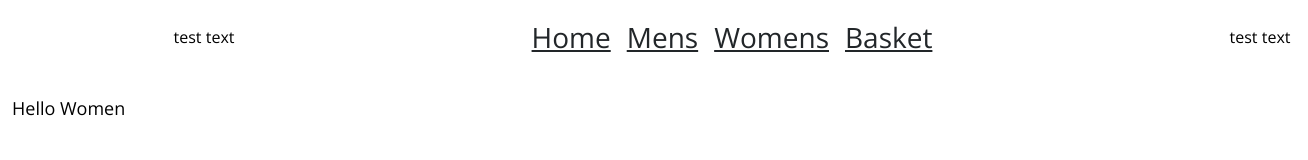
Test: renders the Basket Page
Note: find the nav link
Click the link with test id "basket-router-link" at (889, 37), box top-left (845, 18), bottom-right (932, 56)
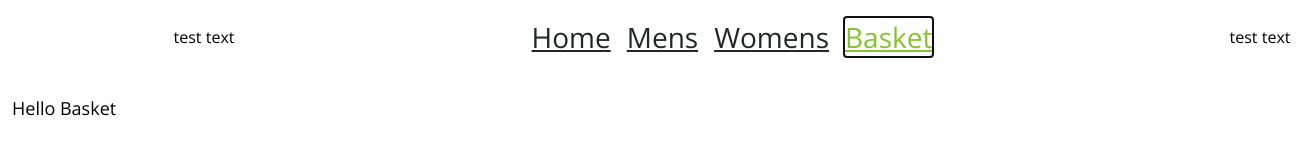
Now the text "Hello Basket" is shown, box top-left (12, 96), bottom-right (116, 120)
